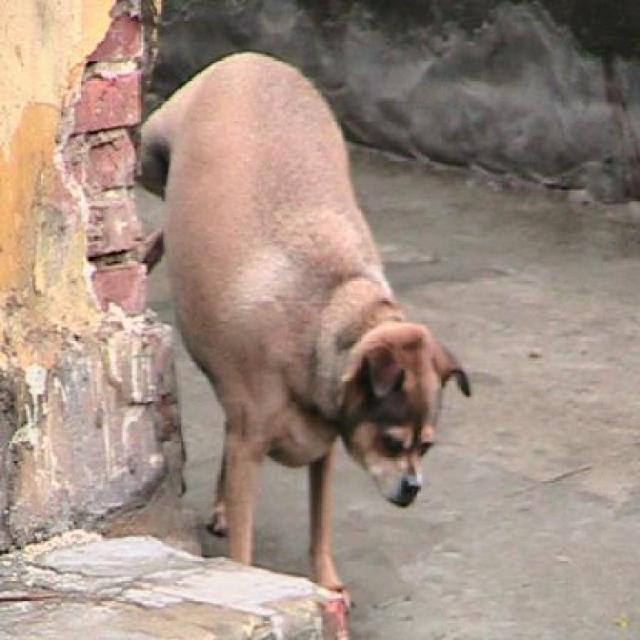Dog: (134, 49, 475, 614)
